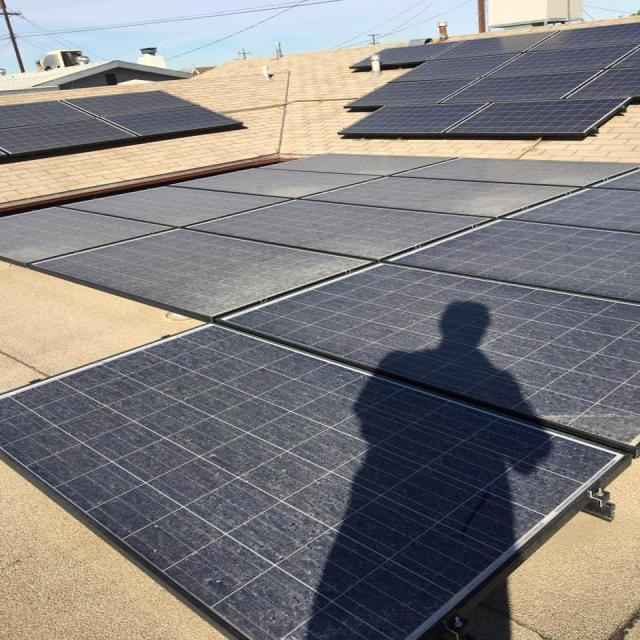Surface Contaminant: (170, 250, 365, 314), (403, 159, 640, 184), (210, 169, 371, 199), (447, 189, 579, 216)
